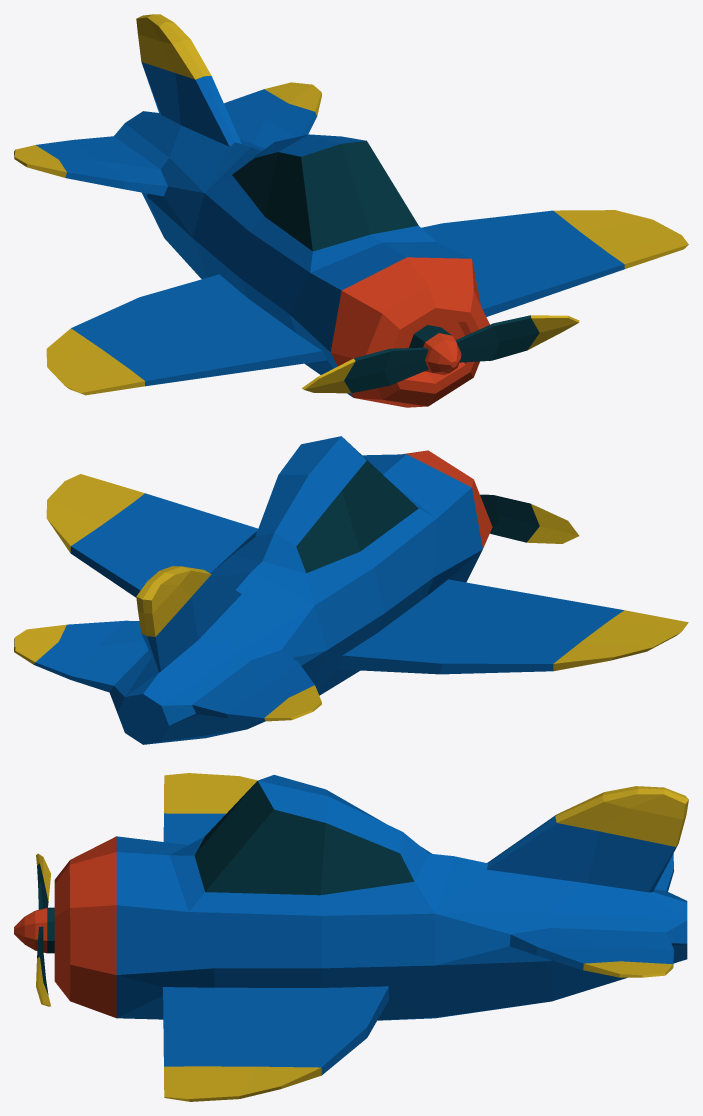
The model's file is asset.glb.
3 renders of one model, top to bottom at view 1: azimuth 30°, elevation 25°; view 2: azimuth 150°, elevation 25°; view 3: azimuth 270°, elevation 25°, orthographic. The views are drawn at different scales.
Visible parts, largest first — view 1: aviao, helice; view 2: aviao, helice; view 3: aviao, helice.
Part boxes in pixels (x1,y1,x2,y2): aviao: (14, 14, 688, 407); helice: (302, 315, 579, 393); aviao: (14, 436, 688, 744); helice: (480, 494, 579, 543); aviao: (54, 773, 688, 1101); helice: (14, 853, 54, 1006).
Size of the model in its own units: 7.45 by 2.58 by 6.51.
